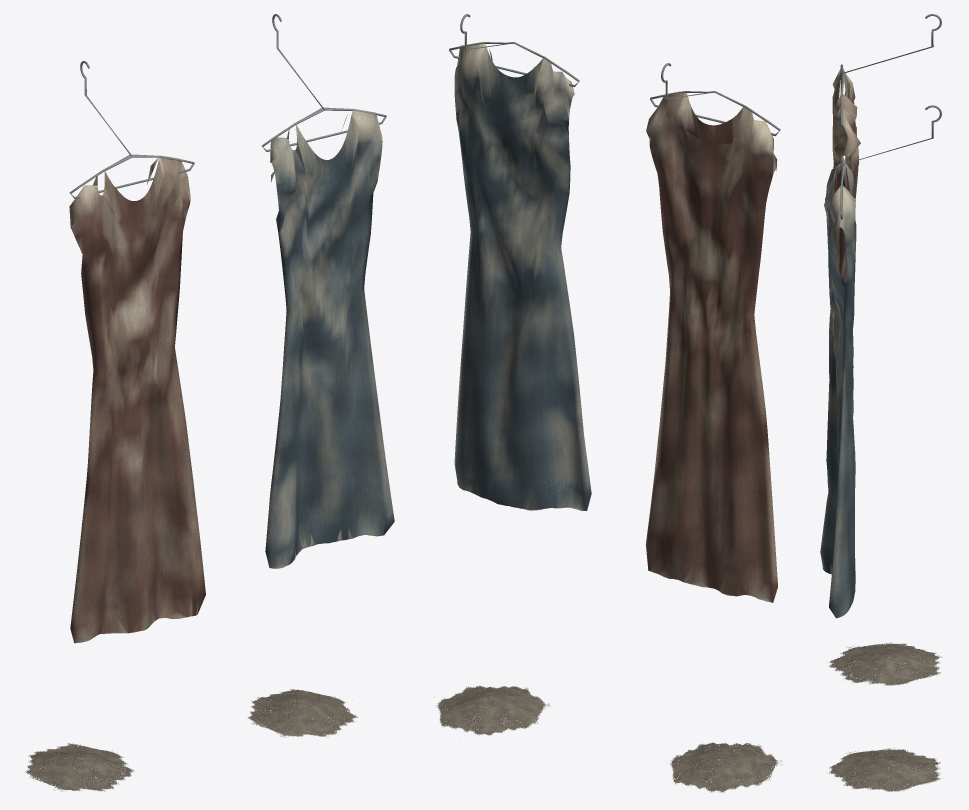
Rendered from her_dresses_aged.glb.
The picture shows the model from 3 angles, left to right: view 1: azimuth 30°, elevation 25°; view 2: azimuth 150°, elevation 25°; view 3: azimuth 270°, elevation 25°; orthographic projection. The views are drawn at different scales.
Visible parts, largest first — view 1: RoseDress, BlueDress, BlueDress_FibreHeap_Base, RoseDress_FibreHeap_Base, RoseDress_FibreHeap, BlueDress_FibreHeap, RoseDress_Hanger, BlueDress_Hanger; view 2: RoseDress, BlueDress, BlueDress_FibreHeap_Base, RoseDress_FibreHeap_Base, RoseDress_FibreHeap, BlueDress_FibreHeap, BlueDress_Hanger, RoseDress_Hanger; view 3: BlueDress, BlueDress_FibreHeap_Base, RoseDress_FibreHeap_Base, RoseDress, RoseDress_FibreHeap, BlueDress_FibreHeap, RoseDress_Hanger, BlueDress_Hanger.
Part boxes in pixels (bbox=[...]): RoseDress: bbox=[69, 156, 205, 643]; BlueDress: bbox=[265, 108, 394, 568]; BlueDress_FibreHeap_Base: bbox=[250, 690, 353, 736]; RoseDress_FibreHeap_Base: bbox=[27, 744, 130, 791]; RoseDress_FibreHeap: bbox=[25, 743, 133, 791]; BlueDress_FibreHeap: bbox=[248, 689, 357, 737]; RoseDress_Hanger: bbox=[69, 61, 194, 198]; BlueDress_Hanger: bbox=[262, 14, 386, 151]; RoseDress: bbox=[645, 91, 777, 602]; BlueDress: bbox=[454, 42, 591, 510]; BlueDress_FibreHeap_Base: bbox=[438, 686, 545, 734]; RoseDress_FibreHeap_Base: bbox=[670, 743, 777, 791]; RoseDress_FibreHeap: bbox=[670, 742, 782, 792]; BlueDress_FibreHeap: bbox=[434, 685, 549, 735]; BlueDress_Hanger: bbox=[449, 14, 579, 87]; RoseDress_Hanger: bbox=[650, 63, 780, 136]; BlueDress: bbox=[820, 159, 856, 618]; BlueDress_FibreHeap_Base: bbox=[831, 749, 938, 791]; RoseDress_FibreHeap_Base: bbox=[830, 643, 939, 685]; RoseDress: bbox=[832, 69, 860, 281]; RoseDress_FibreHeap: bbox=[827, 642, 942, 685]; BlueDress_FibreHeap: bbox=[827, 748, 940, 791]; RoseDress_Hanger: bbox=[840, 14, 941, 128]; BlueDress_Hanger: bbox=[840, 105, 941, 219].
Bounding box in the file's own units: 0.8887 × 1.7 × 0.3155.
7 materials, 5 textured.
